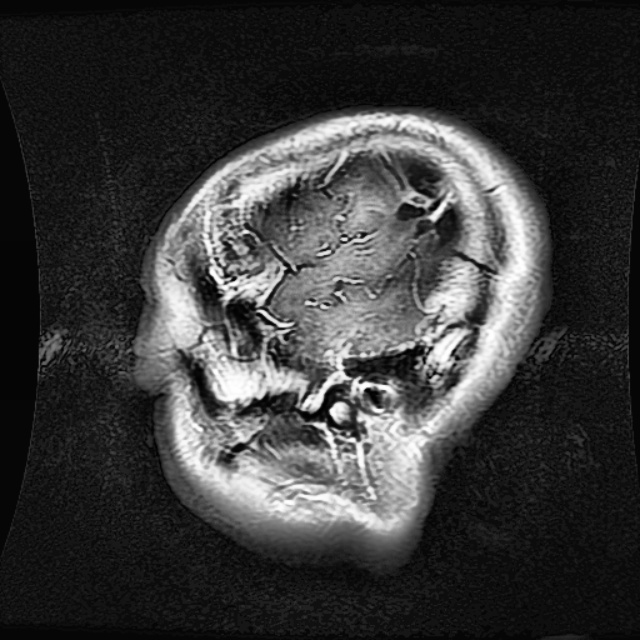Meningioma: (393, 157, 463, 249)
